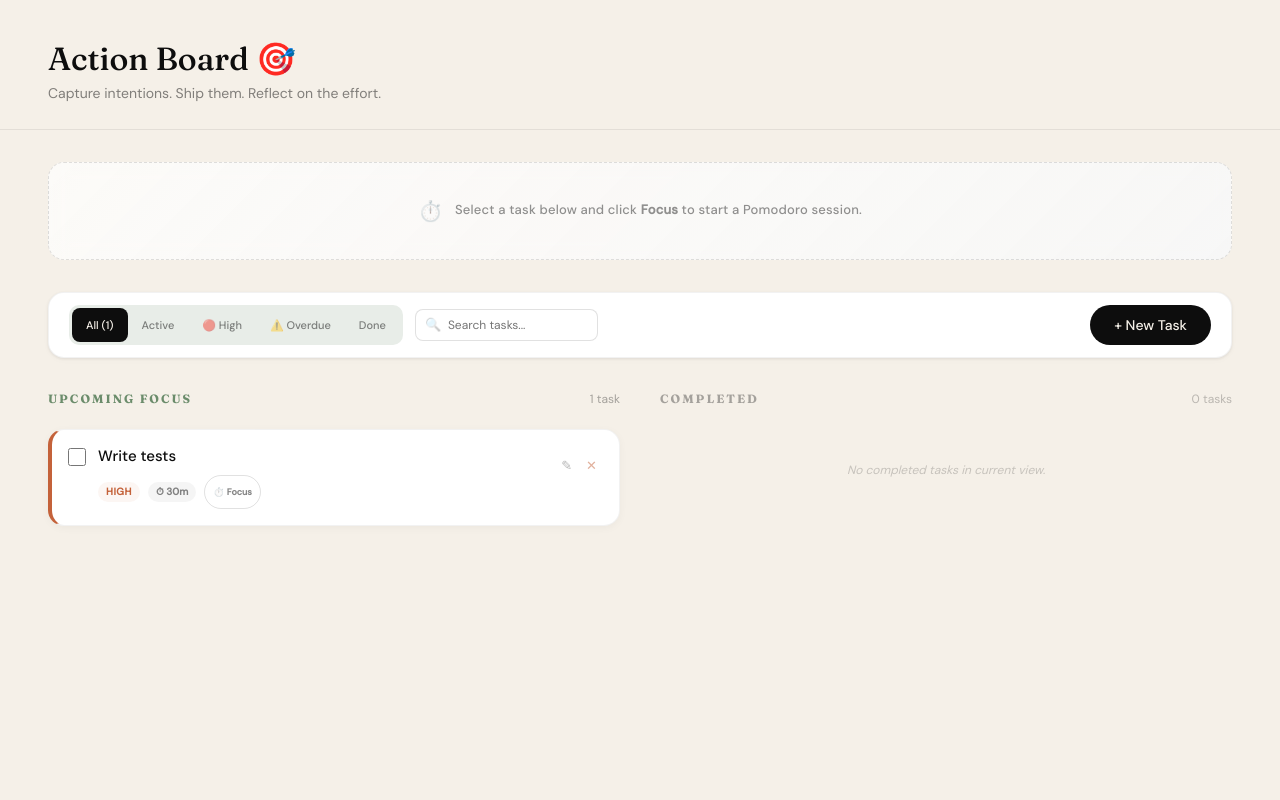
adds a task from the new-task form
Expected: the text "Write tests" is shown, [98,446,176,466]
Click the button "+ New Task" at (1151, 325), box [1090,305,1211,345]
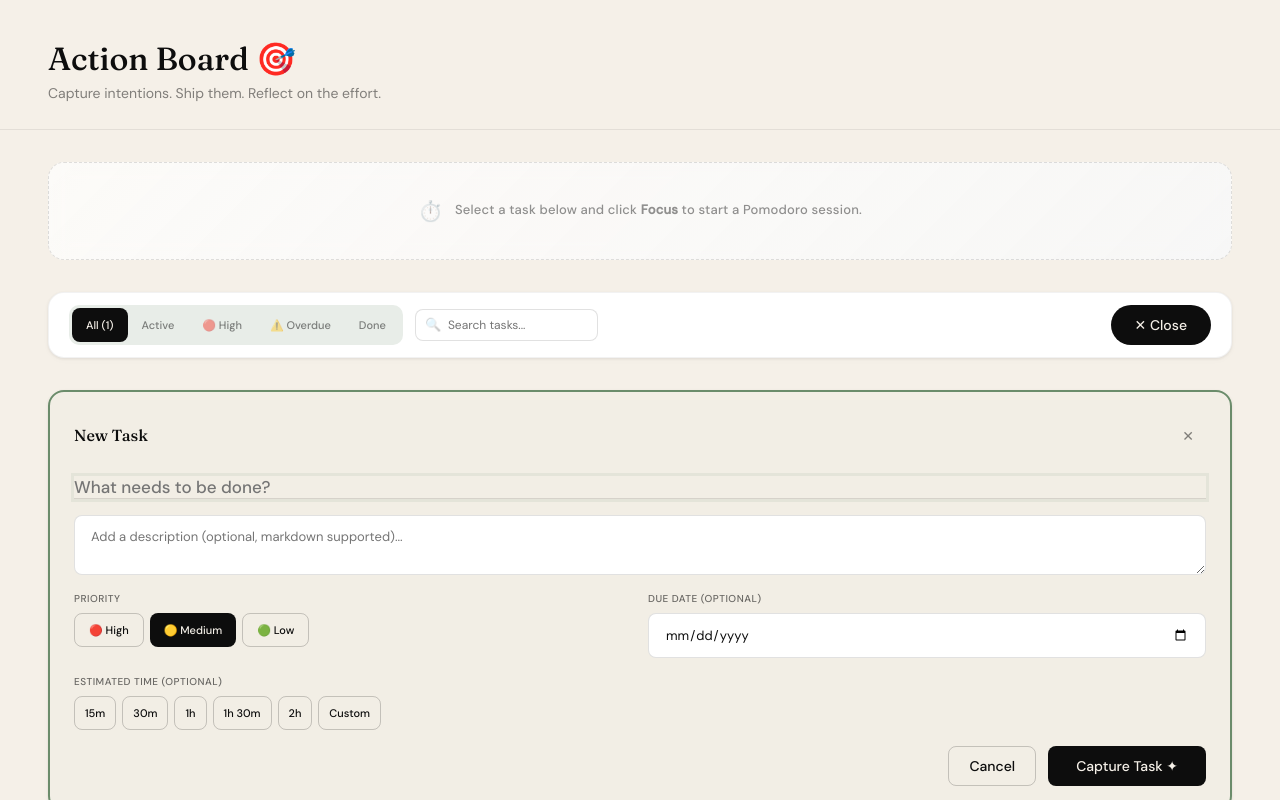
Type "Ship it" into the field with placeholder "What needs to be done?" at (640, 487), box [74,476,1206,499]
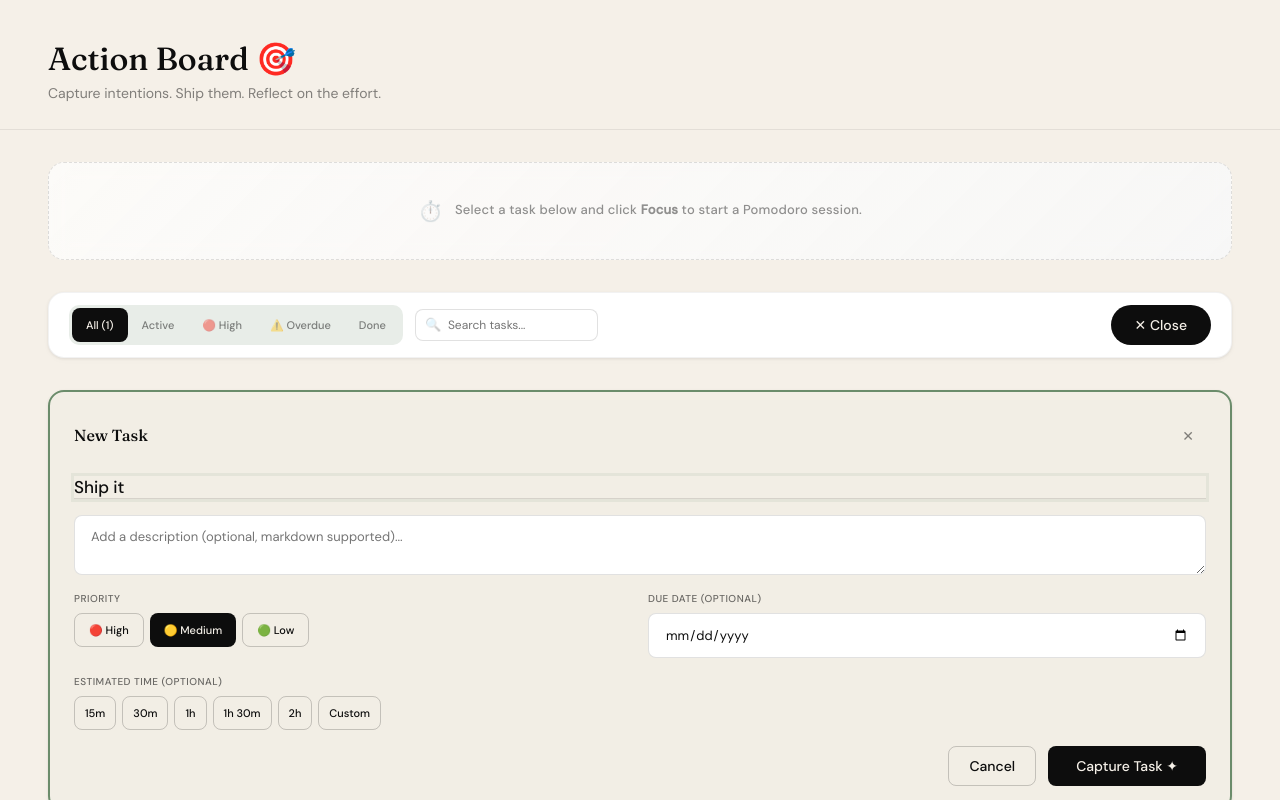
Click the button "1h" at (191, 713), box [174,696,207,730]
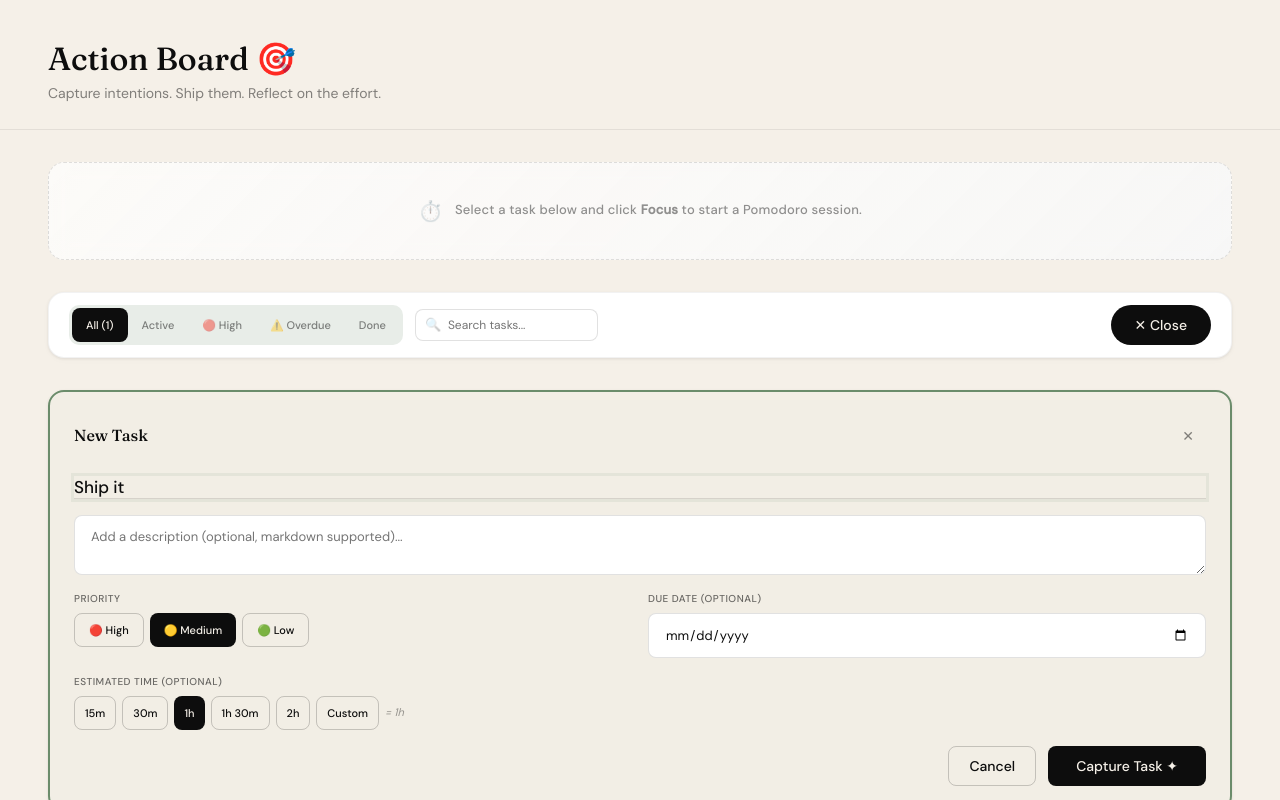
Click the button "Capture Task ✦" at (1127, 766), box [1048,746,1206,786]
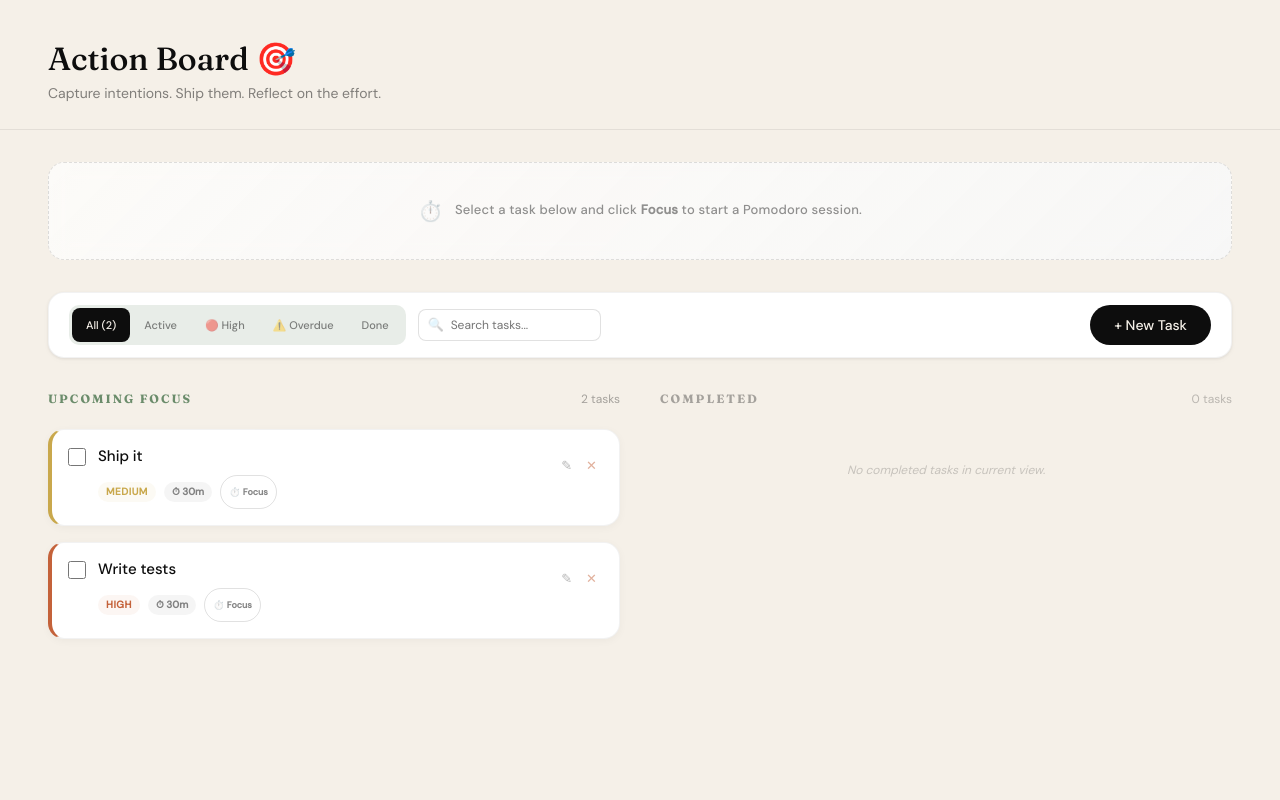
Expected: the field with placeholder "What needs to be done?" is not shown
Result: the text "Ship it" is shown at [98,446,143,466]
